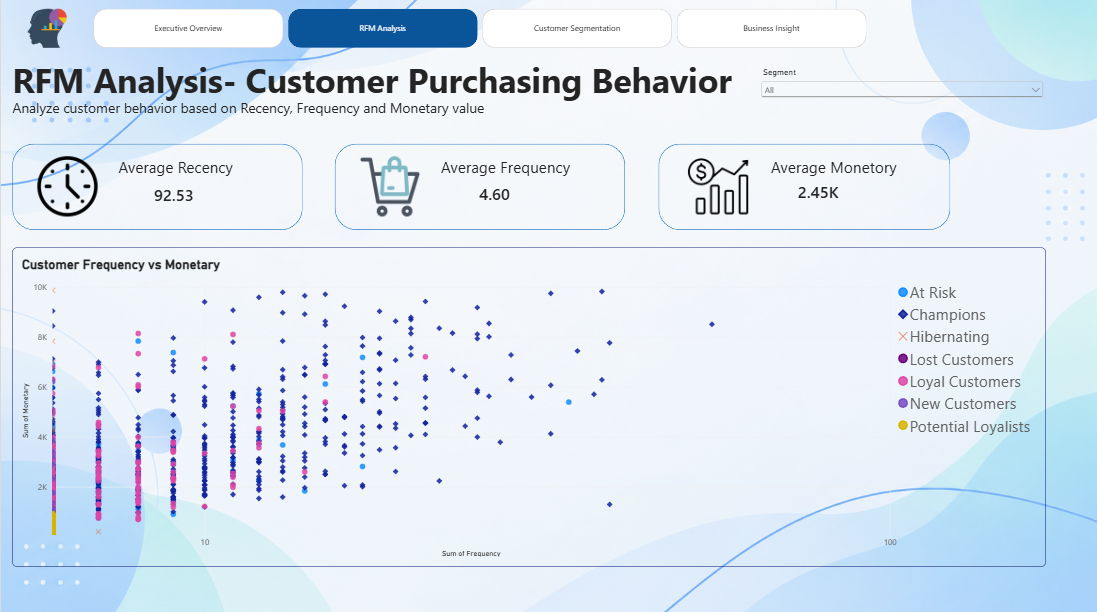

The page's visual inventory and layout, read from the dashboard file:
{"tool":"powerbi","page":{"name":"RFM Analysis","canvas":[1920,1080],"ordinal":1},"visuals":[{"type":"textbox","box":[20,97.5,1297.5,92.5],"z":0},{"type":"shape","box":[20,250,505,150],"z":0,"group":"g1"},{"type":"shape","box":[580,250,505,150],"z":0,"group":"g3"},{"type":"shape","box":[1142.5,250,507.5,150],"z":0,"group":"g2"},{"type":"image","box":[45.9,272.5,139.8,105],"z":1000,"group":"g1"},{"type":"image","box":[605.9,272.5,139.8,105],"z":1000,"group":"g3"},{"type":"image","box":[1172.2,272.5,146.8,105],"z":1000,"group":"g2"},{"type":"cardVisual","fields":{"Data":["customer_rfm_final.Average Recency"]},"box":[250,300,140,77.5],"z":1000},{"type":"textbox","box":[203.9,272.5,230.5,52.5],"z":2000,"group":"g1"},{"type":"textbox","box":[763.9,272.5,230.5,52.5],"z":2000,"group":"g3"},{"type":"textbox","box":[1338,272.5,241.9,52.5],"z":2000,"group":"g2"},{"type":"cardVisual","fields":{"Data":["customer_rfm_final.Average Monetary"]},"box":[1370,287.5,115,90],"z":2000},{"type":"cardVisual","fields":{"Data":["customer_rfm_final.Average Frequency"]},"box":[815,300,100,72.5],"z":3000},{"type":"scatterChart","title":"Customer Frequency vs Monetary","fields":{"Category":["customer_rfm_final.CustomerID"],"Series":["customer_rfm_final.Segment"],"X":["Sum(customer_rfm_final.Frequency)"],"Y":["Sum(customer_rfm_final.Monetary)"]},"box":[20,430,1797.5,555],"z":4000},{"type":"image","box":[0,16,160,68],"z":5000},{"type":"pageNavigator","box":[160,16,1346,68],"z":6000},{"type":"textbox","box":[20,172.5,972.5,45],"z":7000},{"type":"group","id":"g1","title":"Group 1","box":[20,250,505,150],"z":8000},{"type":"group","id":"g2","title":"Group 1","box":[1142.5,250,507.5,150],"z":9000},{"type":"group","id":"g3","title":"Group 1","box":[580,250,505,150],"z":10000},{"type":"slicer","fields":{"Values":["customer_rfm_final.Segment"]},"box":[1317.5,117.5,500,57.5],"z":11000}]}

Visuals, with their boxes on the page's 1920x1080 design canvas (x1, y1, x2, y2). These are canvas units, not pixel positions in the 1097x612 screenshot, which may show the page scaled, cropped or inside an application window:
textbox: 20/98/1318/190
shape: 20/250/525/400
shape: 580/250/1085/400
shape: 1142/250/1650/400
image: 46/272/186/378
image: 606/272/746/378
image: 1172/272/1319/378
cardVisual - customer_rfm_final.Average Recency: 250/300/390/378
textbox: 204/272/434/325
textbox: 764/272/994/325
textbox: 1338/272/1580/325
cardVisual - customer_rfm_final.Average Monetary: 1370/288/1485/378
cardVisual - customer_rfm_final.Average Frequency: 815/300/915/372
"Customer Frequency vs Monetary" scatterChart: 20/430/1818/985
image: 0/16/160/84
pageNavigator: 160/16/1506/84
textbox: 20/172/992/218
"Group 1" group: 20/250/525/400
"Group 1" group: 1142/250/1650/400
"Group 1" group: 580/250/1085/400
slicer - customer_rfm_final.Segment: 1318/118/1818/175
